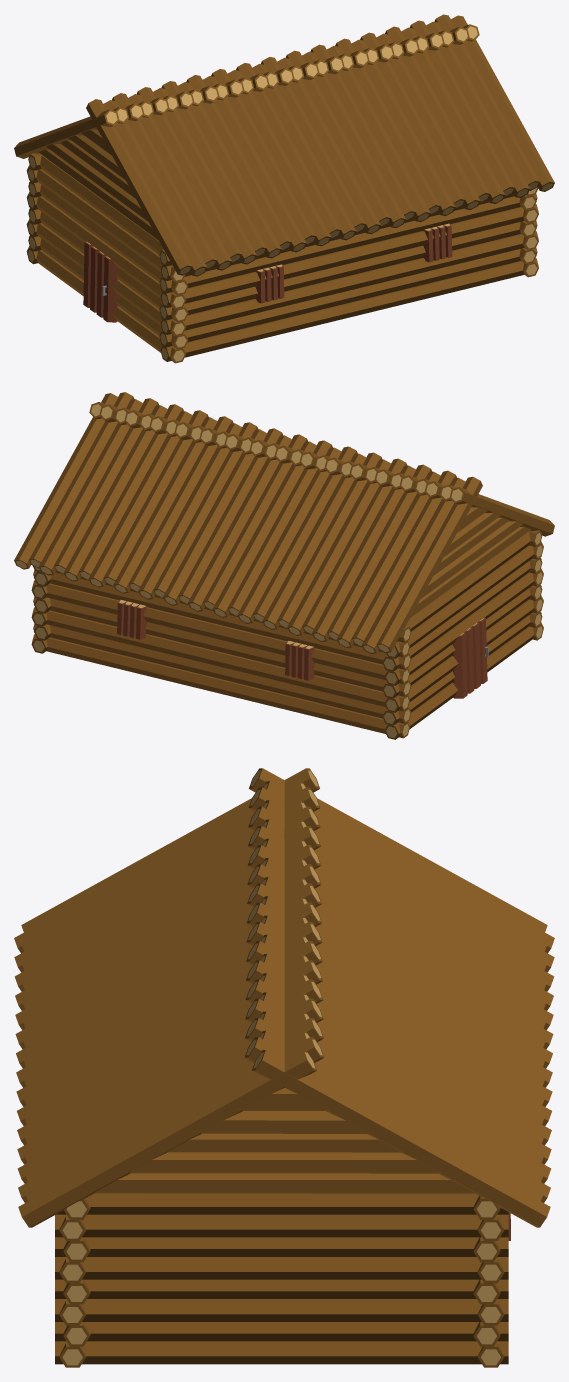
The model's file is Cabane vieux sage.fbx.
3 renders of one model, top to bottom at view 1: azimuth 30°, elevation 25°; view 2: azimuth 150°, elevation 25°; view 3: azimuth 270°, elevation 25°, orthographic. The views are drawn at different scales.
Parts seen in each view (by area): view 1: Cabane Vieux Sage; view 2: Cabane Vieux Sage; view 3: Cabane Vieux Sage.
Boxes of the visible parts, left/top/right/bottom form: Cabane Vieux Sage: left=14, top=14, right=554, bottom=363; Cabane Vieux Sage: left=14, top=392, right=554, bottom=739; Cabane Vieux Sage: left=14, top=768, right=554, bottom=1367.
Bounding box in the file's own units: 5094 × 2656 × 4020.
